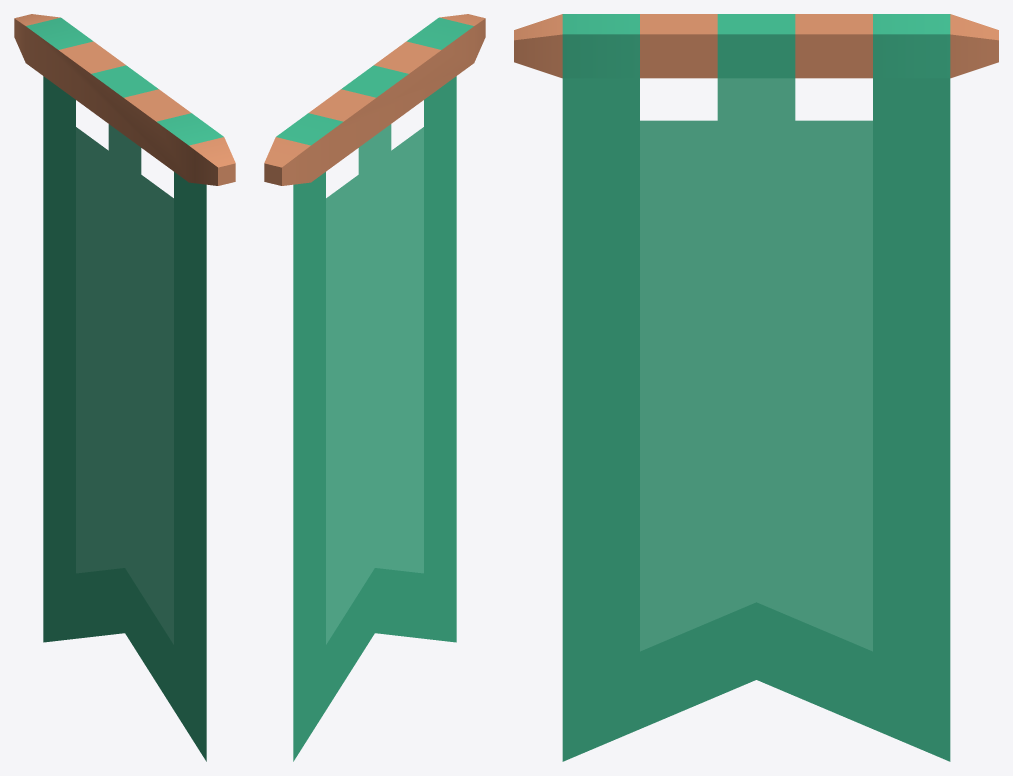
File: bannerGreen.dae
3 views of the same model, side by side, from view 1: azimuth 30°, elevation 25°; view 2: azimuth 150°, elevation 25°; view 3: azimuth 270°, elevation 25° (orthographic). The views are drawn at different scales.
Parts seen in each view (by area): view 1: bannerGreen; view 2: bannerGreen; view 3: bannerGreen.
Boxes of the visible parts, bbox=[...] form: bannerGreen: bbox=[14, 14, 235, 761]; bannerGreen: bbox=[264, 14, 485, 761]; bannerGreen: bbox=[514, 14, 998, 761].
Bounding box in the file's own units: 0.05 × 0.8394 × 0.5.
